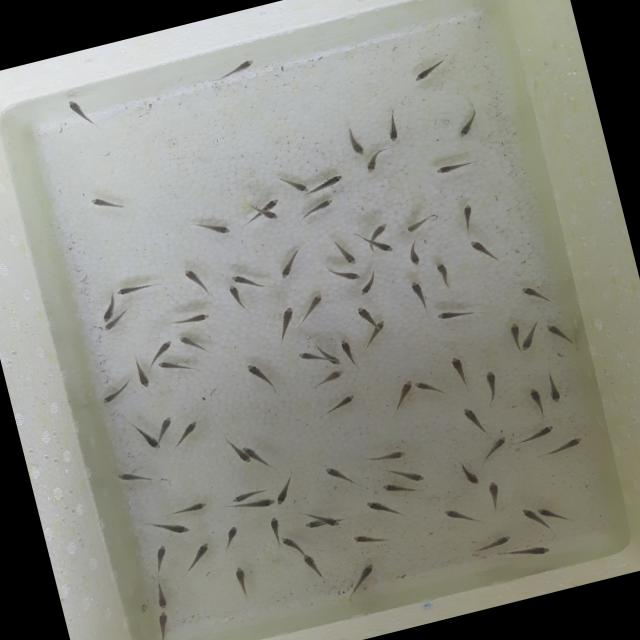fingerling: (204, 57, 260, 89), (406, 53, 456, 86), (271, 469, 312, 506), (68, 94, 100, 138), (296, 288, 333, 324), (171, 414, 207, 451), (452, 106, 490, 140), (382, 380, 417, 416), (156, 352, 200, 380), (148, 514, 195, 540), (114, 463, 156, 492), (516, 280, 556, 309), (274, 248, 308, 282), (243, 356, 277, 390), (364, 443, 412, 467), (476, 365, 505, 404), (194, 214, 234, 242), (272, 306, 300, 346), (112, 276, 162, 298), (212, 523, 245, 556), (324, 459, 358, 491), (433, 154, 478, 178), (546, 433, 589, 458), (180, 542, 214, 572), (506, 540, 552, 562), (174, 328, 210, 356), (295, 198, 336, 222), (350, 526, 391, 550), (435, 302, 475, 326), (228, 266, 268, 290), (96, 380, 136, 404), (243, 438, 273, 470), (380, 110, 408, 144), (517, 318, 545, 352), (535, 500, 569, 528), (462, 401, 487, 438), (232, 495, 276, 516), (518, 422, 556, 446), (362, 316, 392, 346), (544, 317, 573, 348), (228, 564, 254, 598), (388, 464, 428, 486), (308, 368, 346, 391), (228, 485, 274, 504), (350, 559, 380, 588), (467, 232, 498, 260), (92, 190, 124, 217), (502, 320, 527, 354), (542, 372, 566, 407), (166, 498, 208, 518), (472, 534, 514, 554), (360, 148, 392, 174), (378, 474, 414, 497), (478, 434, 511, 459), (446, 354, 470, 388), (526, 381, 548, 418), (181, 265, 209, 294), (278, 170, 308, 197), (332, 238, 359, 268), (320, 394, 358, 415), (130, 358, 154, 391), (442, 502, 472, 528), (363, 495, 394, 520), (406, 275, 430, 307), (433, 259, 457, 291), (98, 311, 136, 331), (341, 334, 364, 367), (456, 463, 484, 490), (136, 423, 162, 452), (168, 311, 212, 328), (301, 548, 327, 576), (352, 272, 382, 296), (312, 173, 346, 194), (146, 340, 178, 362), (222, 281, 248, 308), (482, 479, 506, 508), (412, 375, 442, 398), (150, 576, 170, 610), (401, 242, 427, 268), (155, 410, 180, 437), (344, 129, 368, 157), (224, 437, 248, 465), (333, 264, 363, 286), (457, 201, 478, 232), (401, 216, 431, 236), (98, 295, 120, 322), (519, 502, 541, 529), (318, 340, 340, 366), (148, 542, 168, 569), (354, 302, 376, 326), (280, 530, 302, 552), (294, 346, 319, 365), (370, 218, 396, 236), (372, 237, 396, 256), (154, 611, 170, 637), (318, 509, 339, 528), (260, 206, 284, 222), (266, 516, 283, 538), (301, 514, 322, 531), (262, 198, 283, 210)
